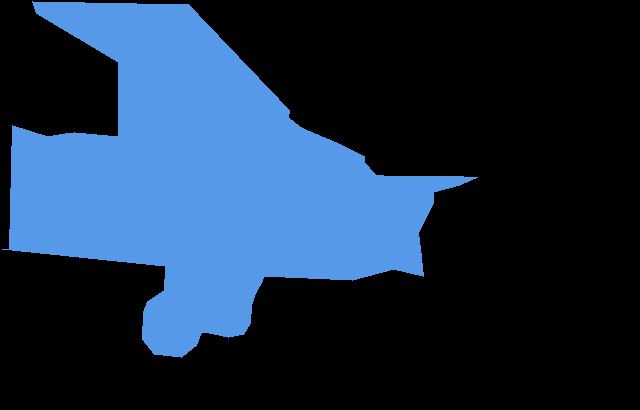Airplane: (2, 1, 477, 357)
